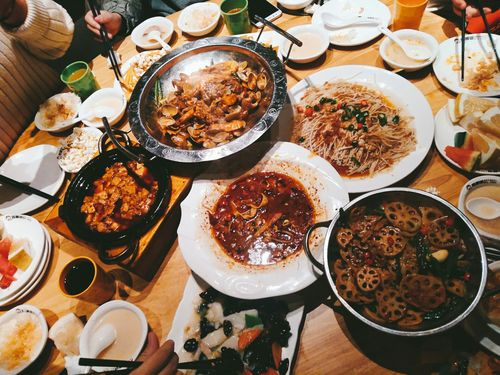food: (312, 176, 482, 346), (190, 142, 346, 292), (284, 55, 429, 185), (133, 33, 279, 161), (431, 31, 499, 95)
